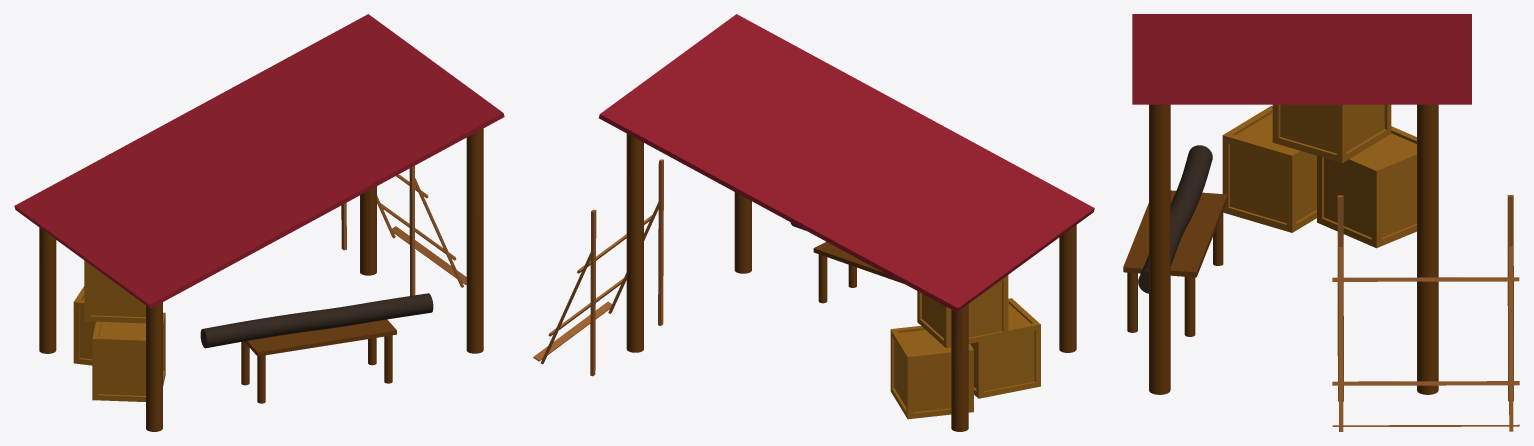
Rendered from Warsztat.fbx.
The picture shows the model from 3 angles, left to right: view 1: azimuth 30°, elevation 25°; view 2: azimuth 150°, elevation 25°; view 3: azimuth 270°, elevation 25°; orthographic projection. The views are drawn at different scales.
Visible parts, largest first — view 1: Cylinder.001; view 2: Cylinder.001; view 3: Cylinder.001.
Part boxes in pixels (bbox=[...]): Cylinder.001: bbox=[14, 14, 504, 431]; Cylinder.001: bbox=[533, 14, 1094, 431]; Cylinder.001: bbox=[1123, 14, 1519, 431].
Bounding box in the file's own units: 626 × 363 × 424.
